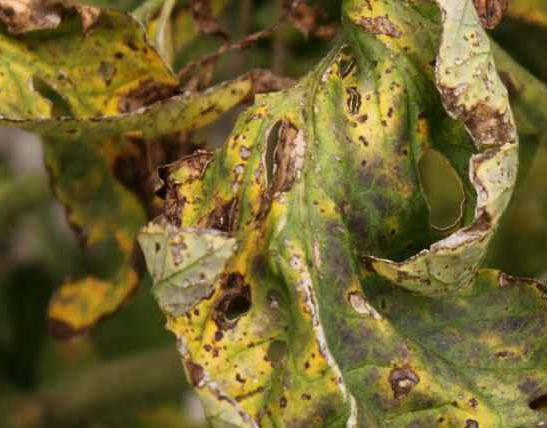Tomato Septoria leaf spot: (134, 0, 547, 428), (0, 0, 220, 141)
